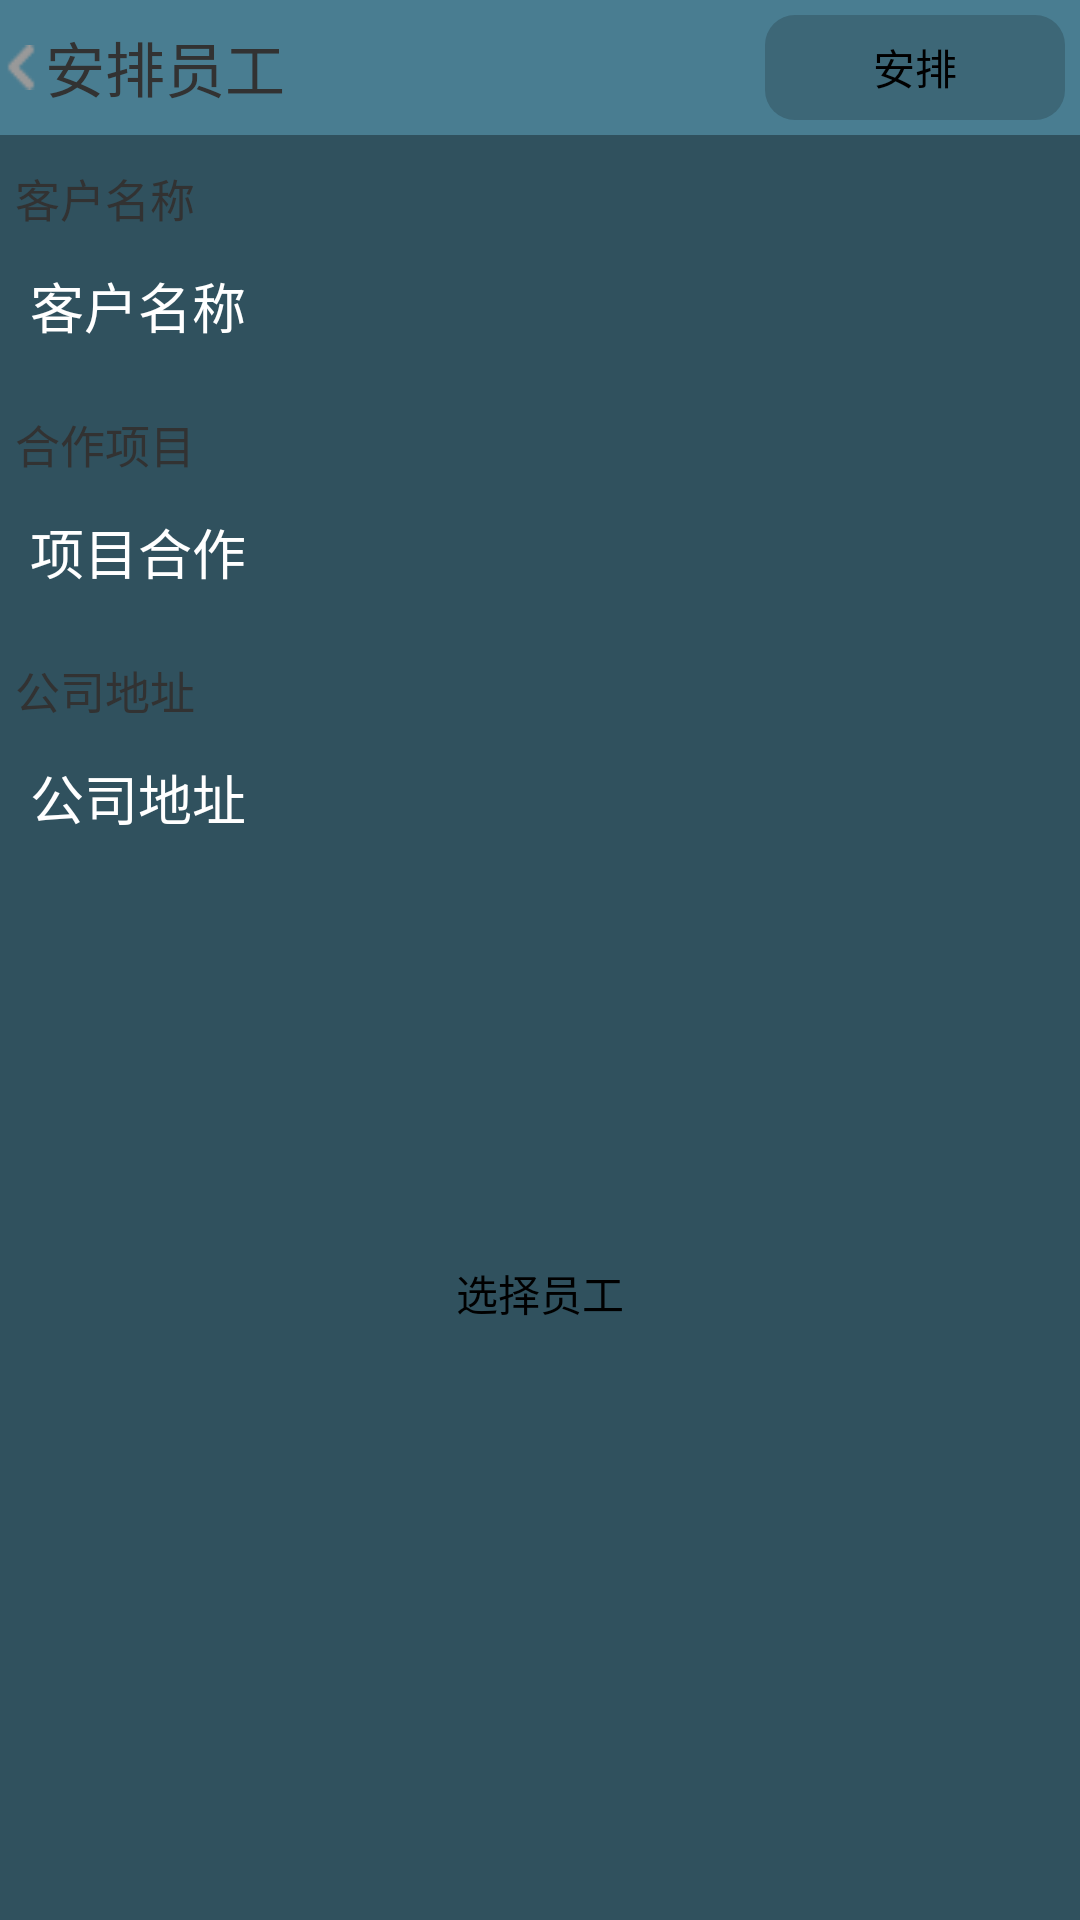

Point at icon controls on the screen. Image size 1080 × 1920, points as (x=x, y=y).
left: (x=21, y=67)
